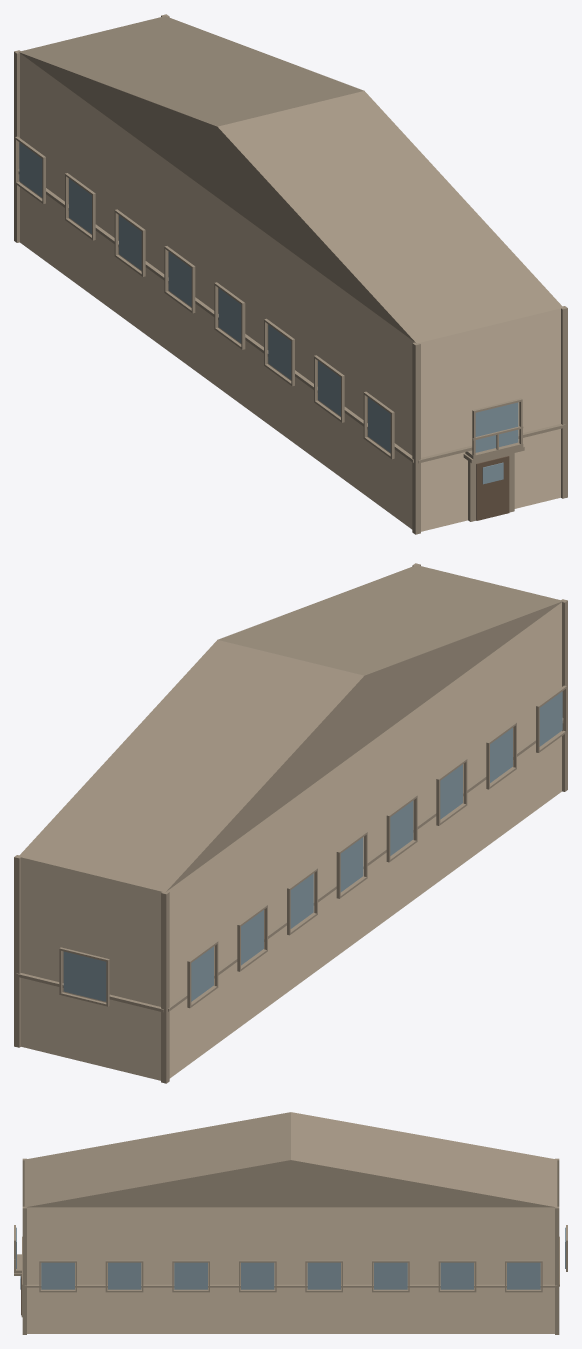
The model's file is lot_1x4_gable.glb.
The picture shows the model from 3 angles, top to bottom: view 1: azimuth 30°, elevation 25°; view 2: azimuth 150°, elevation 25°; view 3: azimuth 270°, elevation 25°; orthographic projection. The views are drawn at different scales.
Visible parts, largest first — view 1: lot_1x4_gable; view 2: lot_1x4_gable; view 3: lot_1x4_gable.
Part boxes in pixels (x1=…): lot_1x4_gable: x1=14, y1=14, x2=567, y2=534; lot_1x4_gable: x1=14, y1=563, x2=567, y2=1083; lot_1x4_gable: x1=14, y1=1112, x2=567, y2=1334.
Size of the model in its own units: 7.74 by 11 by 31.74.
